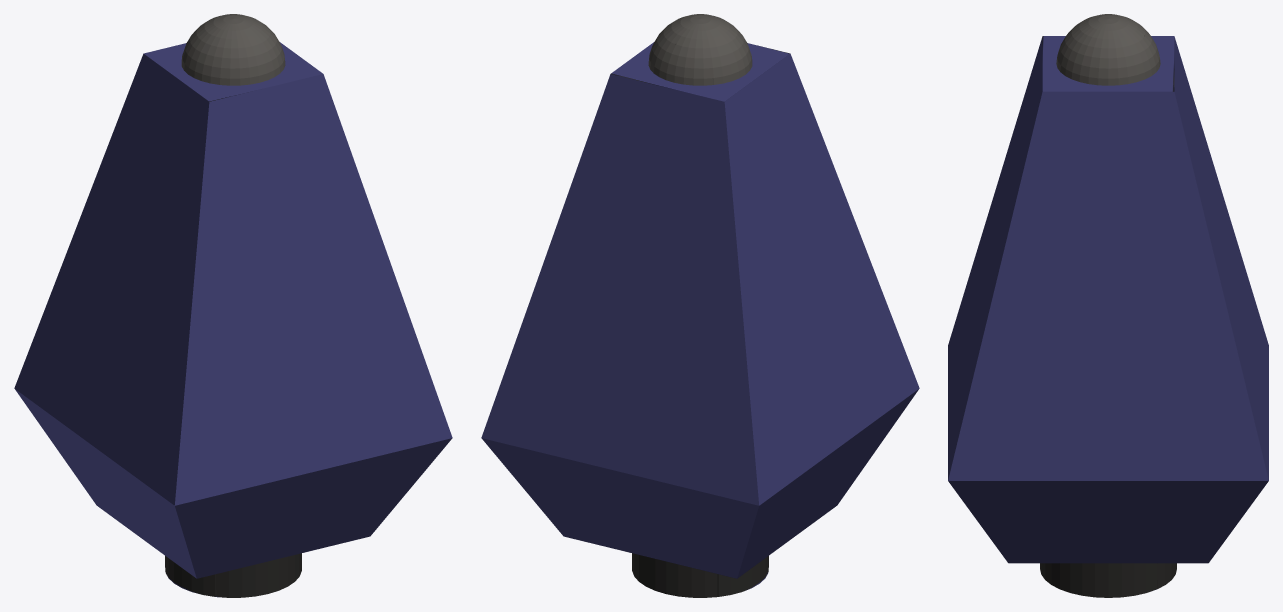
The model's file is BossLeg.obj.
3 renders of one model, left to right at view 1: azimuth 30°, elevation 25°; view 2: azimuth 150°, elevation 25°; view 3: azimuth 270°, elevation 25°, orthographic.
Parts seen in each view (by area): view 1: 球; view 2: 球; view 3: 球.
Part boxes in pixels (x1,y1,x2,y2): 球: [14, 14, 452, 597]; 球: [481, 14, 919, 597]; 球: [948, 14, 1268, 597].
Size of the model in its own units: 1.84 by 3.48 by 1.84.
1 material, 1 textured.
